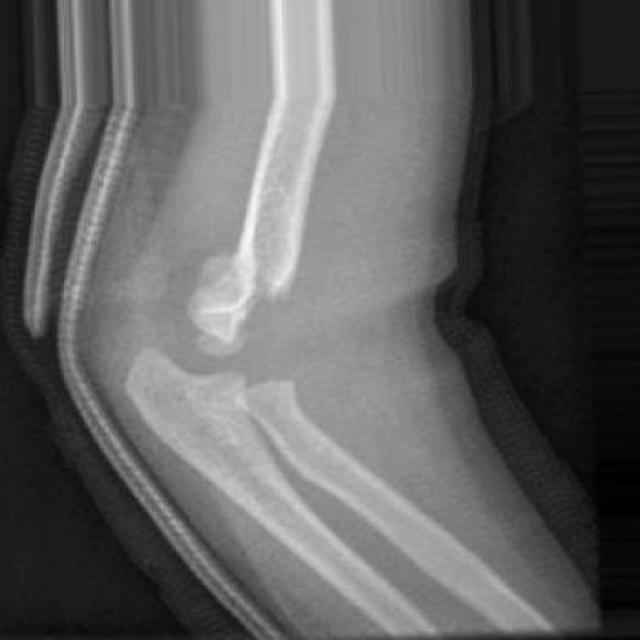Fracture: (227, 270, 320, 405)
